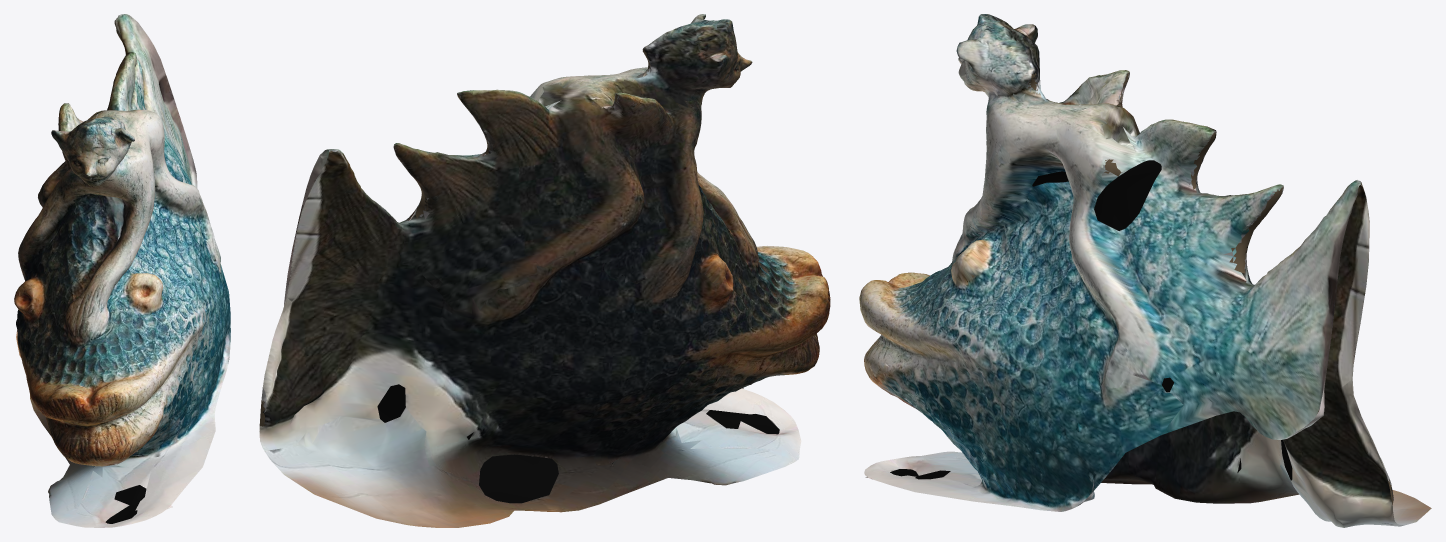
File: childFish.glb
3 views of the same model, side by side, from view 1: azimuth 30°, elevation 25°; view 2: azimuth 150°, elevation 25°; view 3: azimuth 270°, elevation 25° (orthographic). The views are drawn at different scales.
Visible parts, largest first — view 1: childFish; view 2: childFish; view 3: childFish.
Boxes of the visible parts, x1,y1,x2,y2 form: childFish: (14, 14, 230, 527); childFish: (259, 14, 830, 527); childFish: (859, 14, 1431, 527).
Size of the model in its own units: 12.7 by 14.94 by 16.58.
3 materials, 2 textured.
